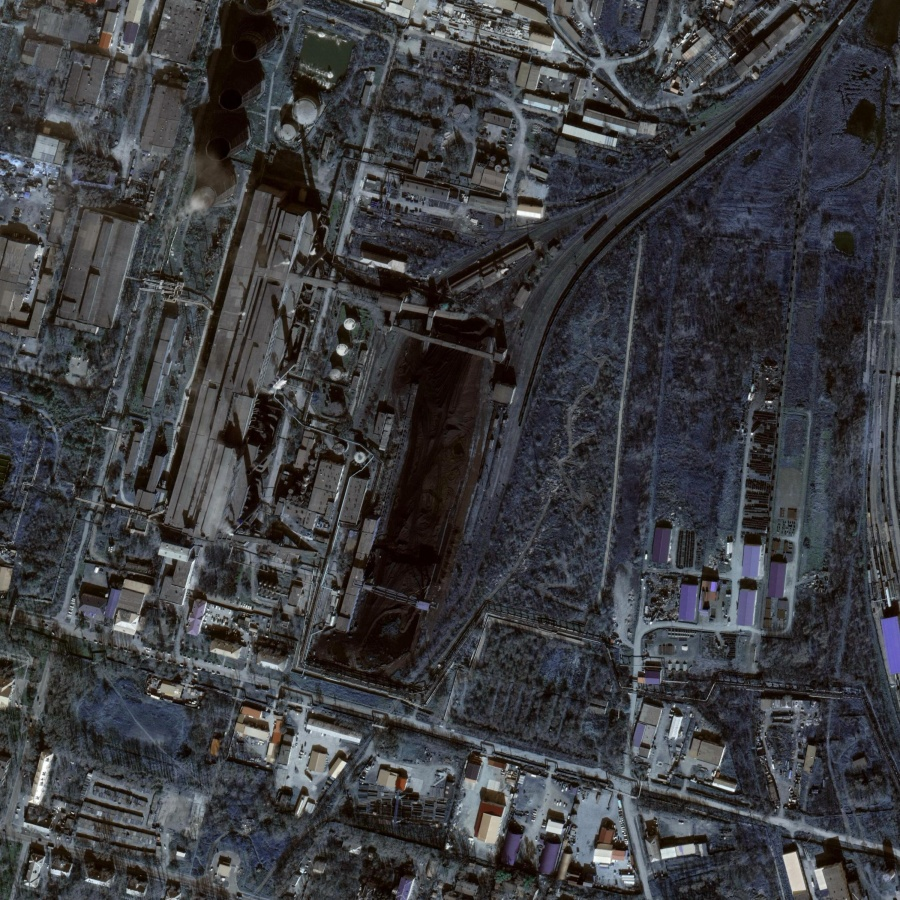PowerPlant: (213, 240, 518, 674)
